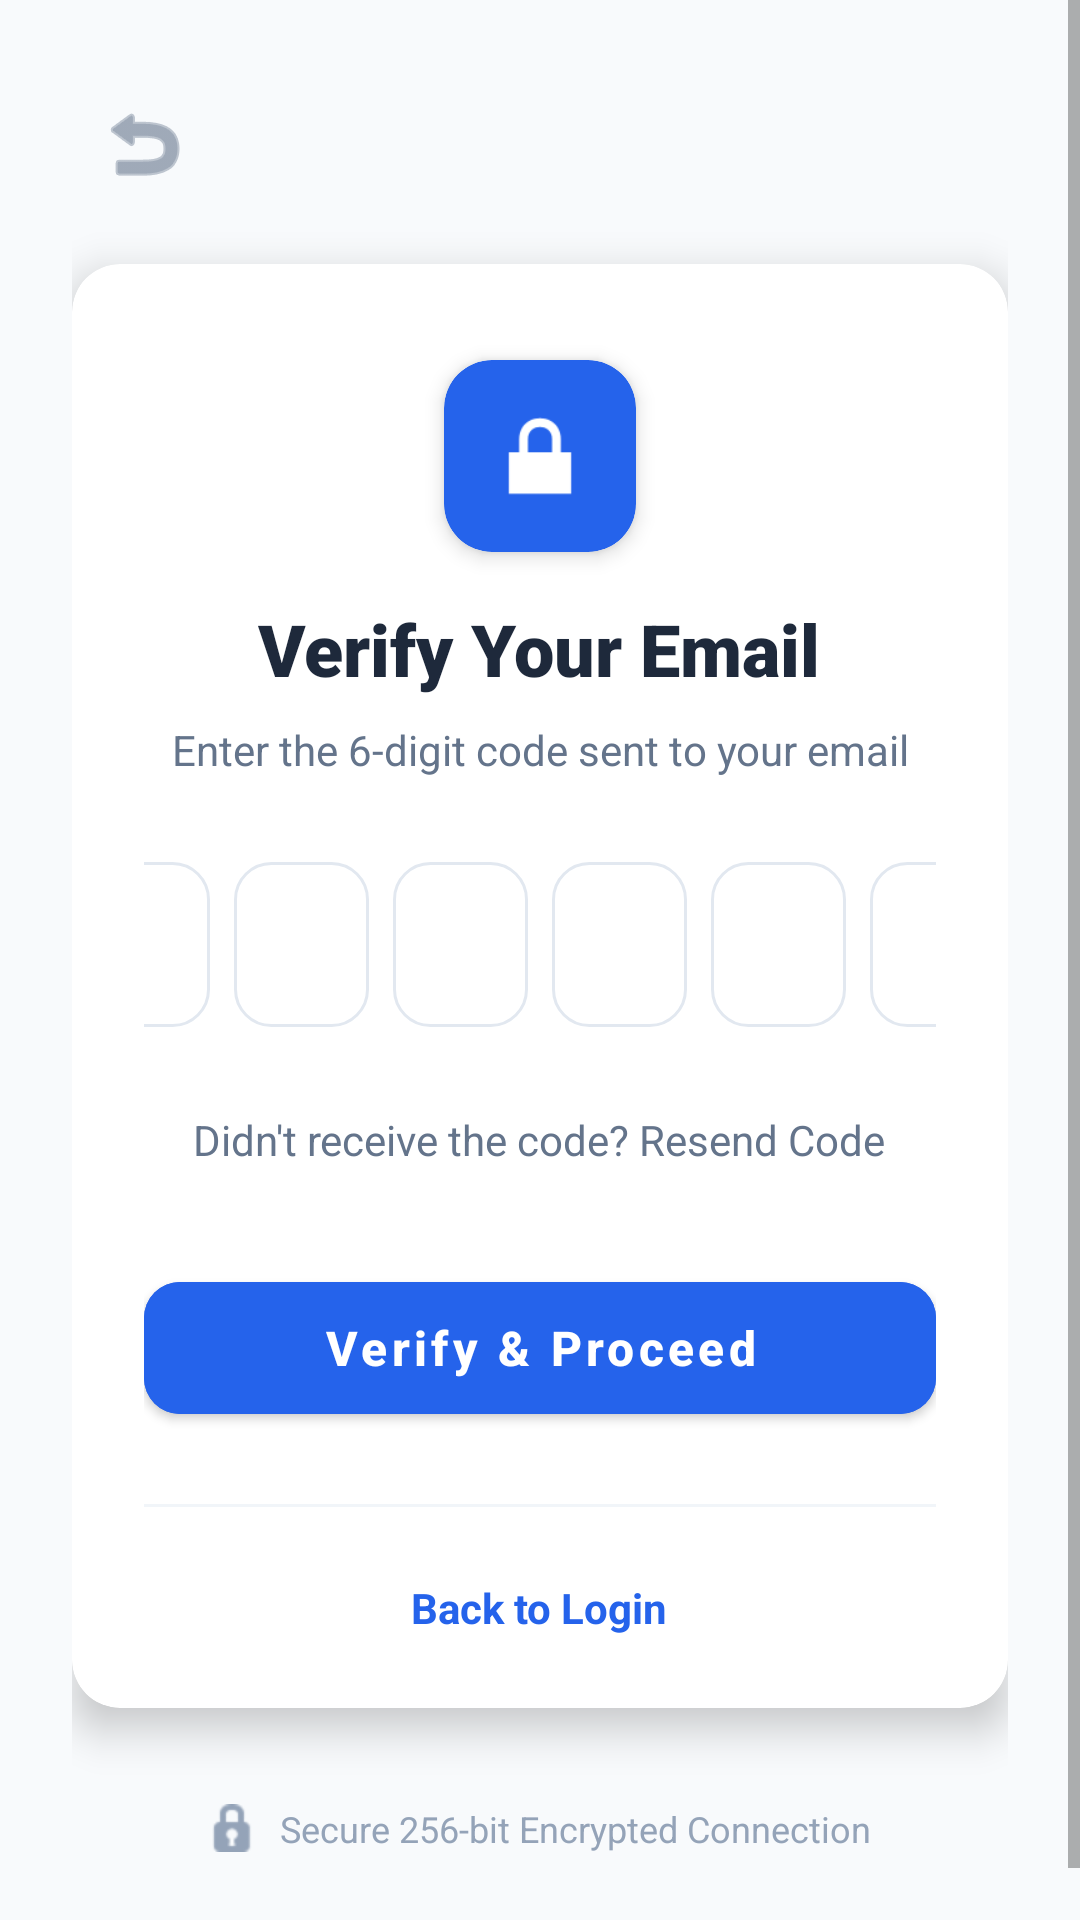

Named icons in this screenshot (1080 x 1920) and their centers, point (x, y):
Back: point (145, 145)
lock: point (540, 456)
